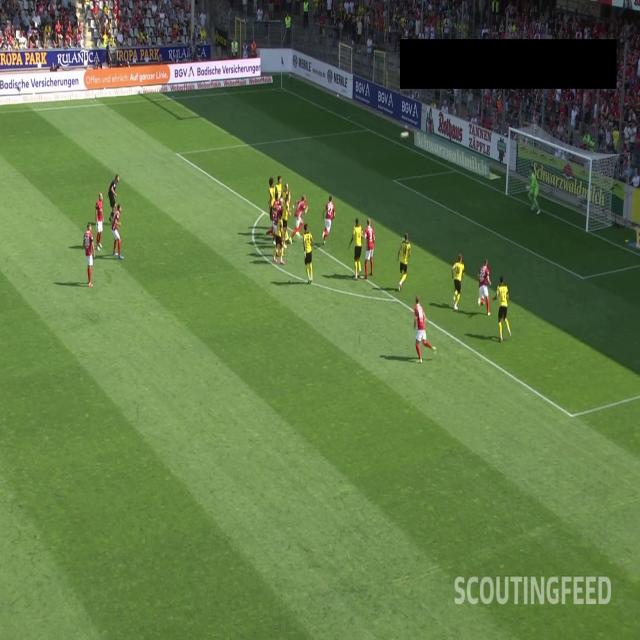ball: (399, 127, 412, 144)
player: (412, 293, 437, 363), (491, 272, 514, 344), (289, 194, 311, 247), (394, 232, 412, 293), (476, 258, 494, 319), (110, 202, 127, 262), (82, 220, 96, 290), (361, 215, 376, 280), (348, 213, 362, 280), (524, 164, 542, 215), (300, 220, 314, 285), (451, 251, 466, 308), (321, 192, 336, 246), (93, 190, 104, 254), (274, 208, 284, 270), (266, 175, 274, 238), (276, 196, 284, 252), (282, 179, 290, 235), (276, 170, 282, 234), (283, 195, 289, 253), (272, 194, 278, 250)
referee: (106, 172, 122, 224)
